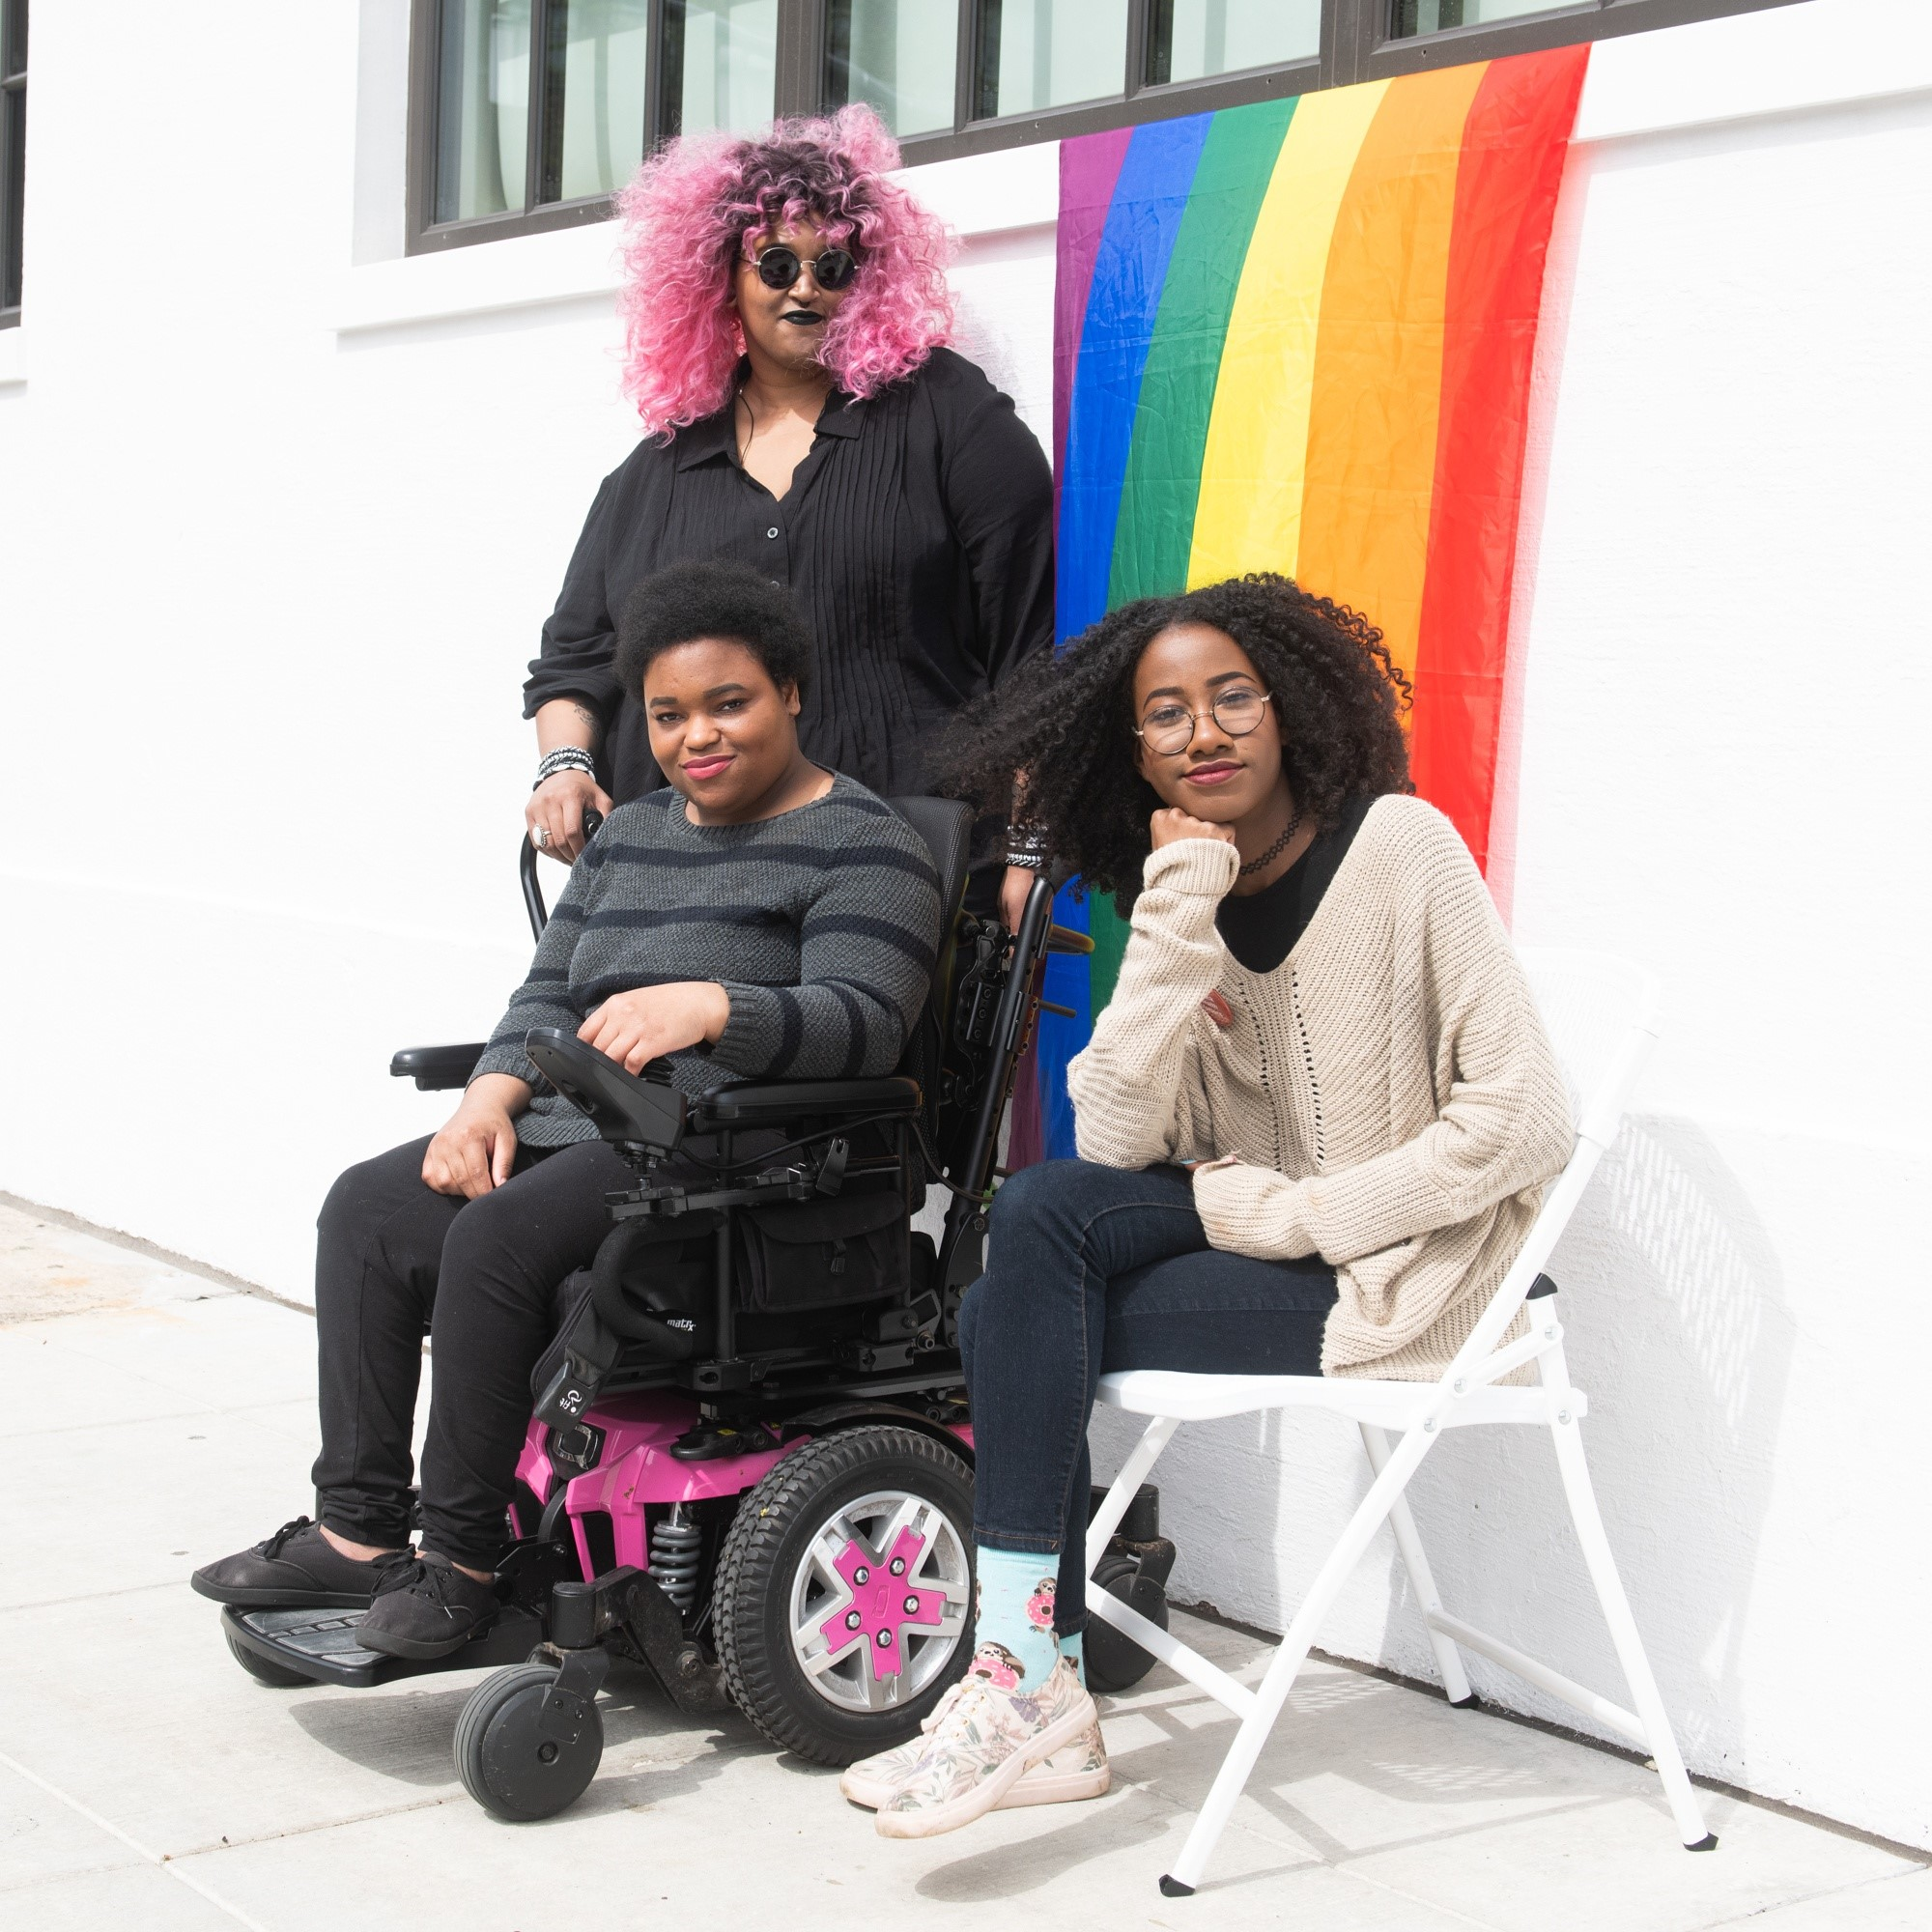face_no_mask: (1110, 611, 1296, 851), (632, 574, 803, 812), (713, 179, 889, 379)
